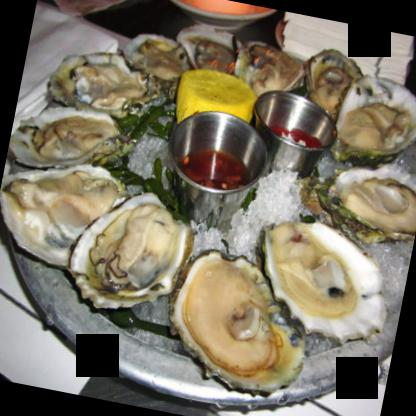oyster: (158, 244, 318, 403), (244, 216, 398, 352), (61, 184, 196, 324), (0, 148, 131, 275), (7, 94, 128, 184), (314, 151, 415, 253), (49, 46, 165, 124), (329, 69, 415, 167)
